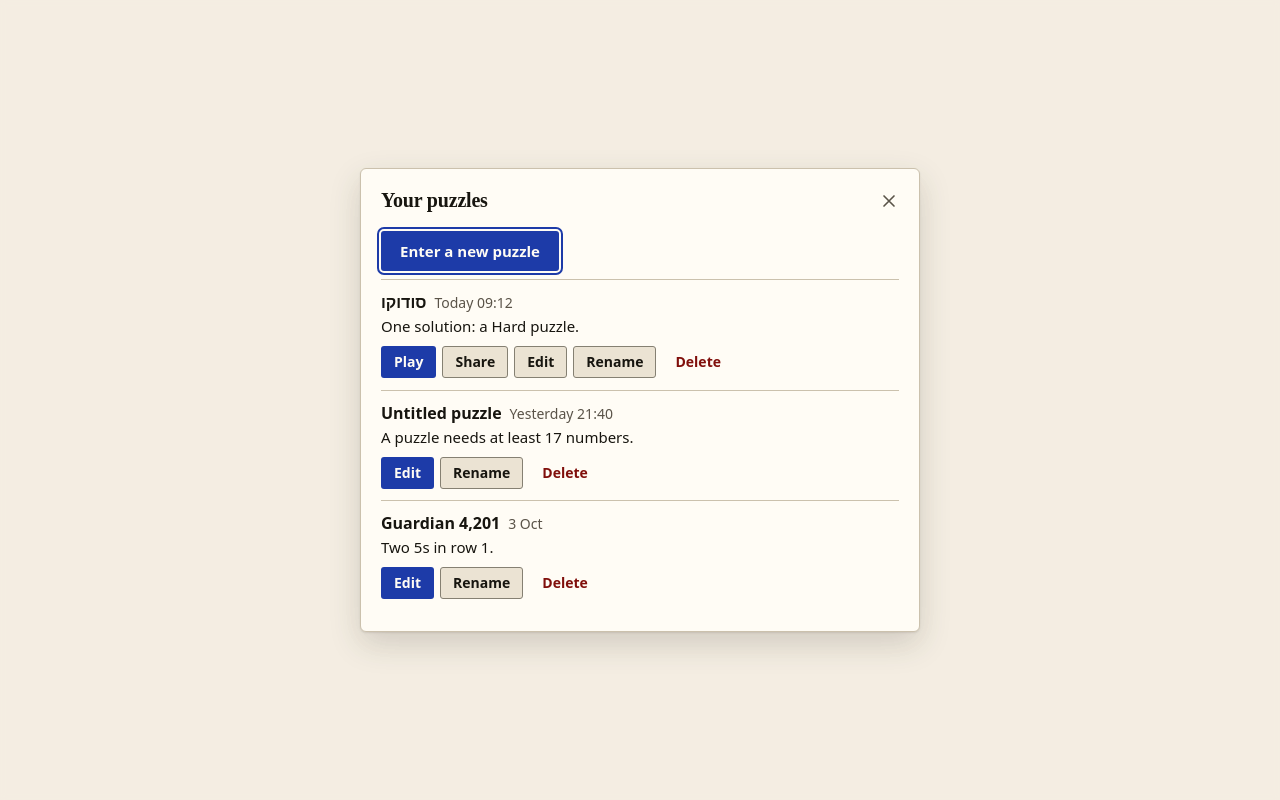
Test: PuzzlesDialog › renaming › opens one row at a time
The image size is (1280, 800).
Click the button "Rename" below "סודוקו" at point(615, 362), box [573,346,656,378]
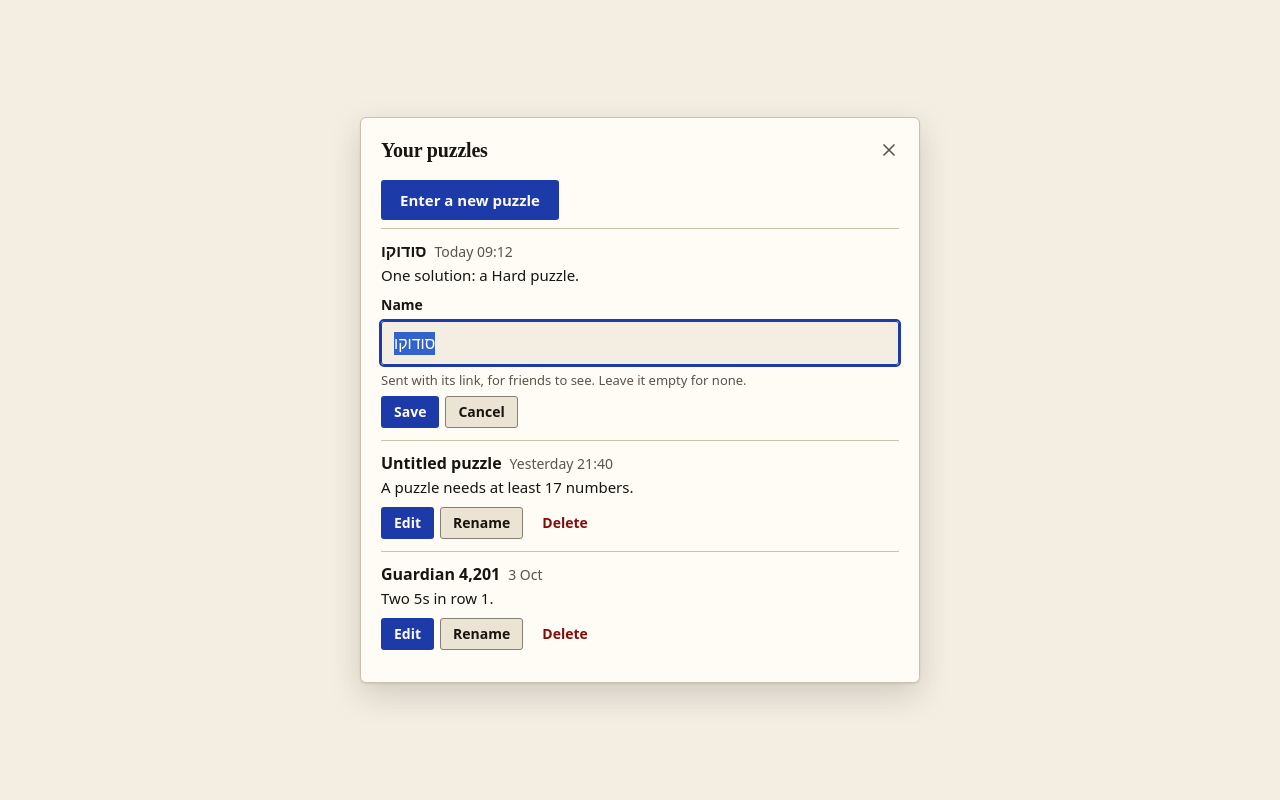
Click the button "Rename" below "Guardian 4,201" at point(482, 634), box [440,618,523,650]
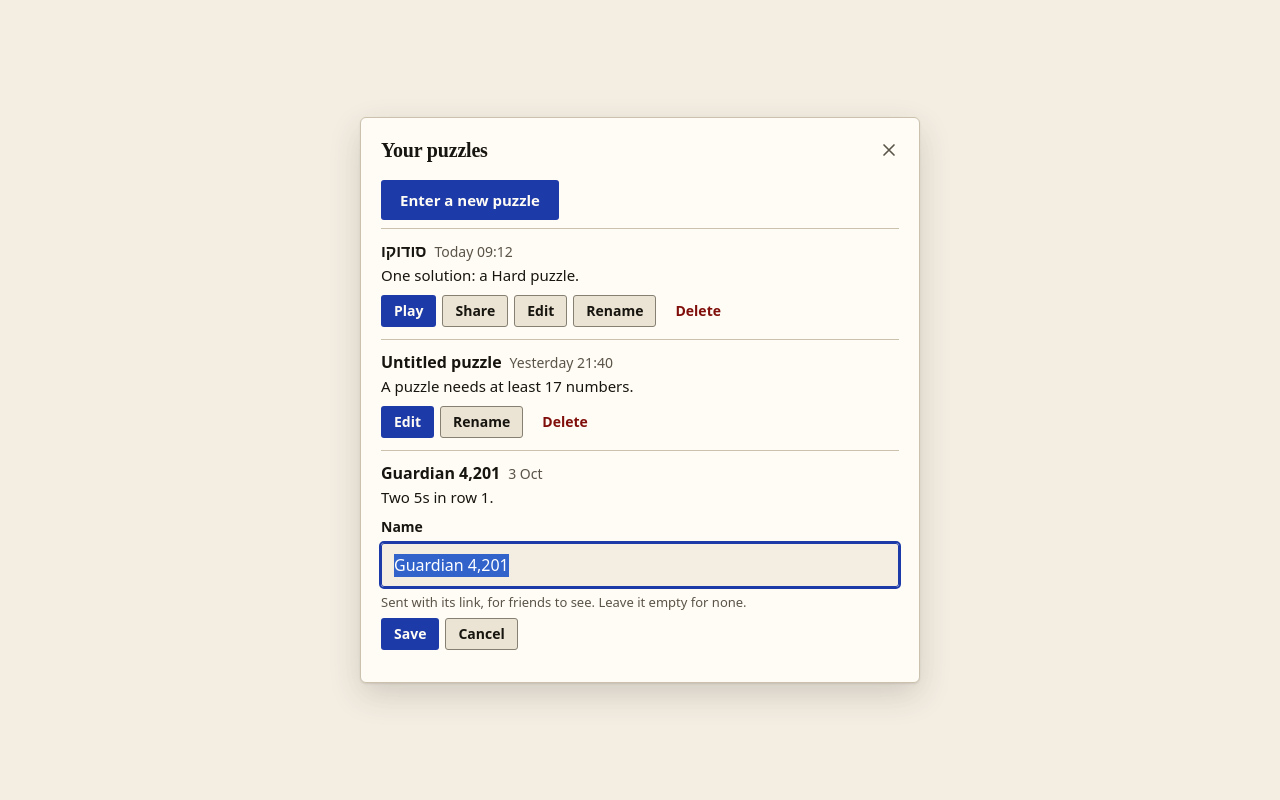
Expected: the number of fields is 1, [381,543,899,587]
Expected: the field labelled "Name" holds "Guardian 4,201", [381,543,899,587]
